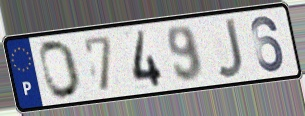4: (130, 28, 165, 90)
6: (249, 15, 286, 74)
7: (82, 34, 115, 94)
9: (166, 24, 205, 85)
J: (215, 16, 246, 81)
O: (38, 38, 83, 101)
